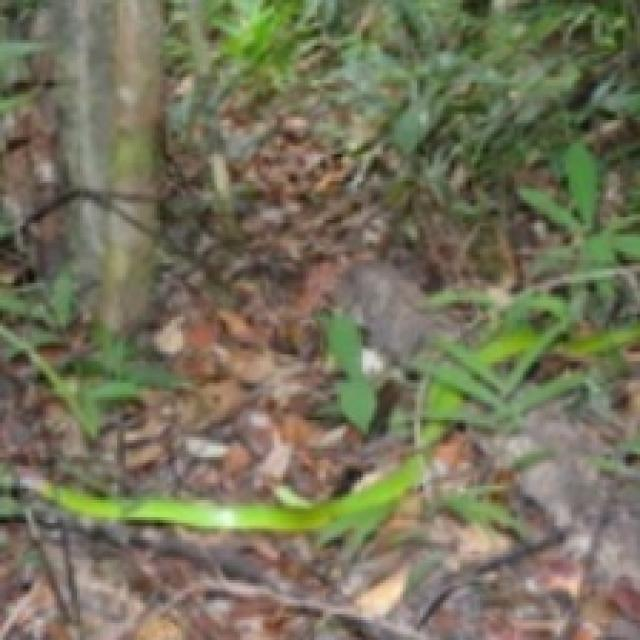red-tailed green ratsnake: (41, 455, 425, 536), (421, 322, 565, 449), (576, 326, 640, 353)
